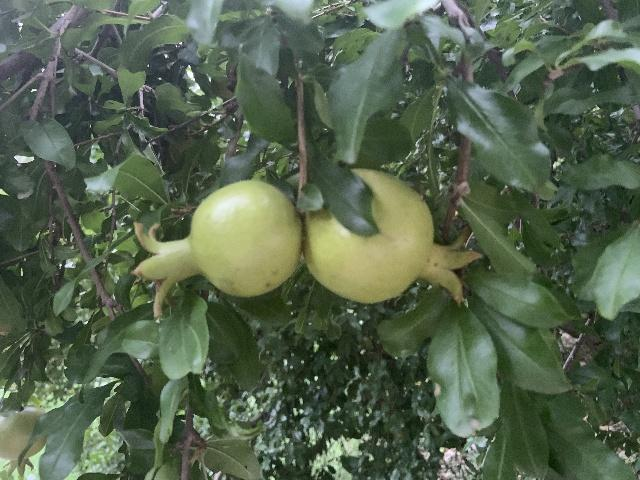mid-growth: (303, 168, 484, 307), (128, 180, 303, 316), (0, 406, 47, 479)
